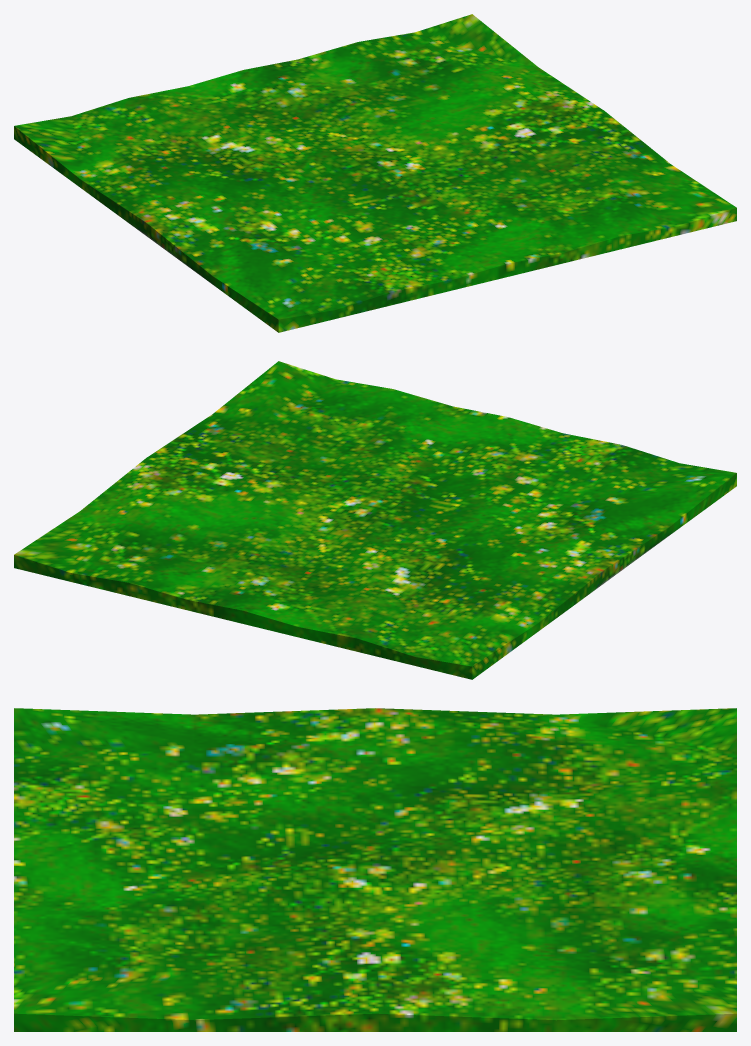
File: SM_Env_Grass_01.fbx
The picture shows the model from 3 angles, top to bottom: view 1: azimuth 30°, elevation 25°; view 2: azimuth 150°, elevation 25°; view 3: azimuth 270°, elevation 25°; orthographic projection. The views are drawn at different scales.
Parts seen in each view (by area): view 1: SM_Env_Grass_01; view 2: SM_Env_Grass_01; view 3: SM_Env_Grass_01.
Part boxes in pixels (box(x1,y1,x2,y2)): SM_Env_Grass_01: box(14, 14, 736, 332); SM_Env_Grass_01: box(14, 361, 736, 679); SM_Env_Grass_01: box(14, 708, 736, 1031).
Size of the model in its own units: 5 by 0.1384 by 5.
